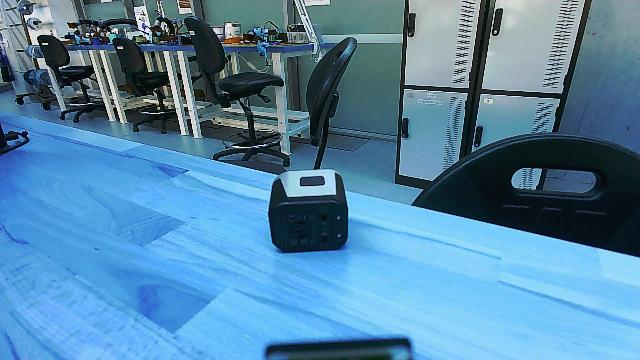adapter: (262, 168, 352, 256)
